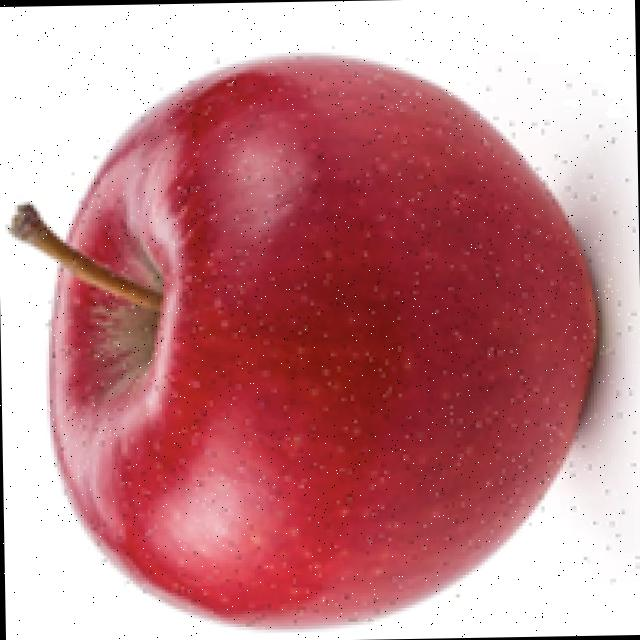apple: (1, 45, 638, 635)
